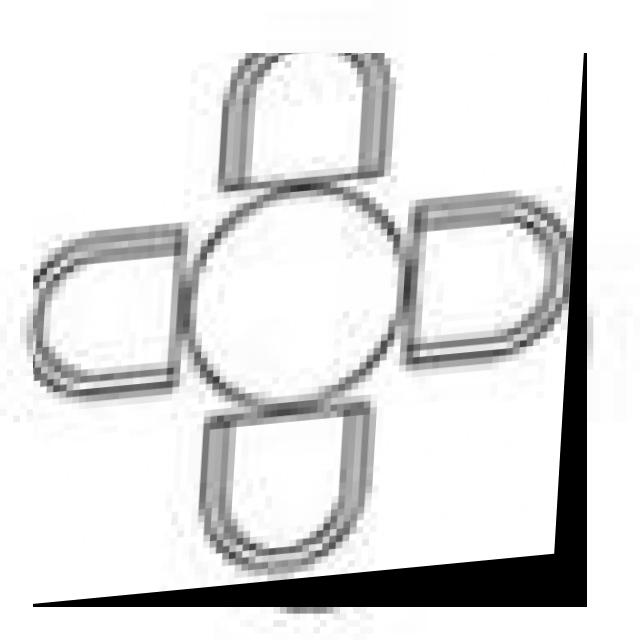table: (33, 53, 587, 607)
